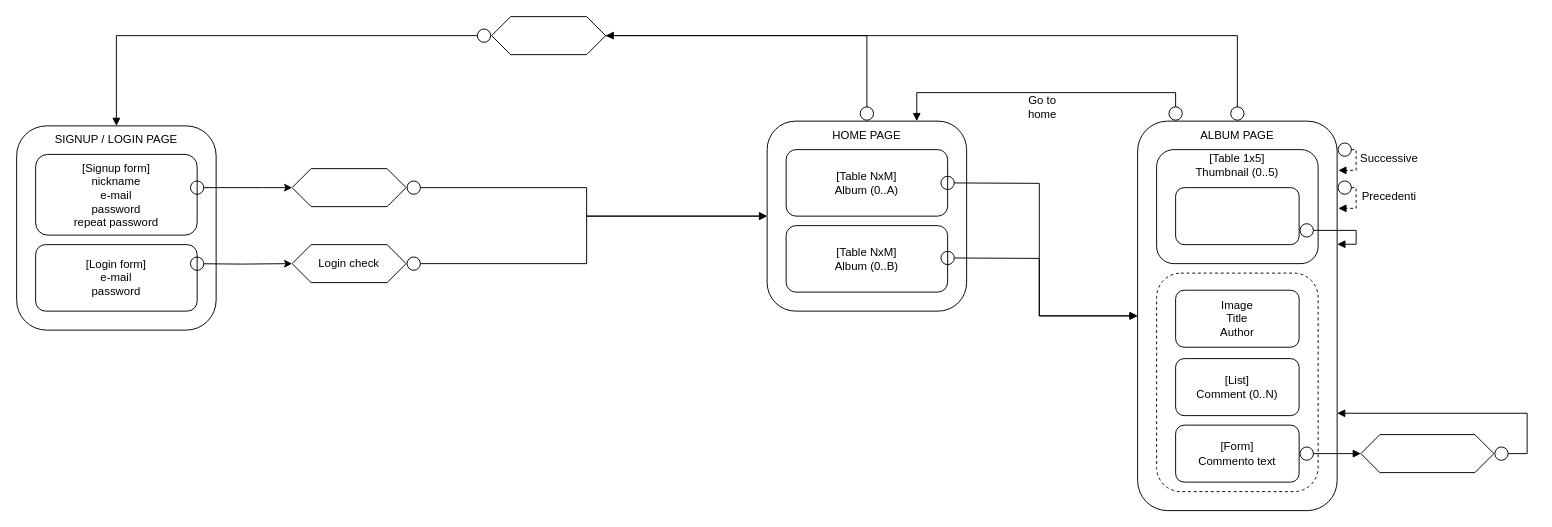
Some shapes in this 1552 by 527 pixel diagram are drawn without their labels. The box of each missing label's shape, as (x1, y1, x2, y2) in pixels:
[Image data]: (1156, 272, 1318, 492)
Create new comment: (1360, 434, 1494, 473)
Image Title: (1175, 187, 1299, 245)
Logout: (491, 16, 606, 55)
Signup check: (291, 168, 406, 207)
